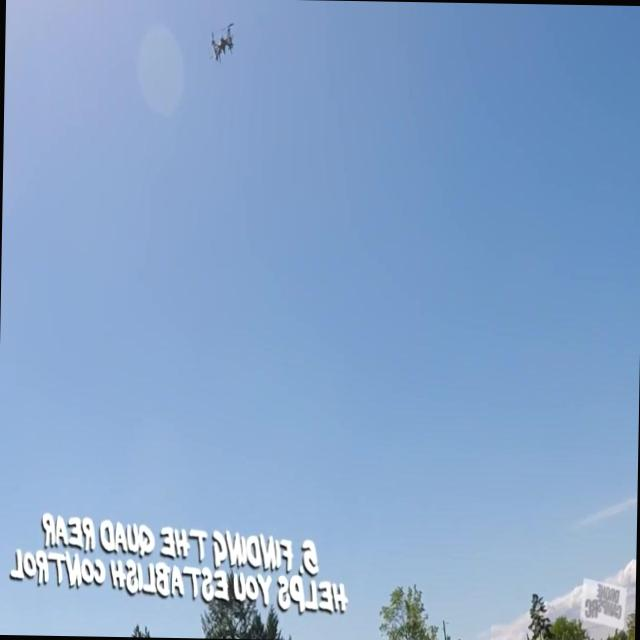drone: (207, 20, 238, 65)
